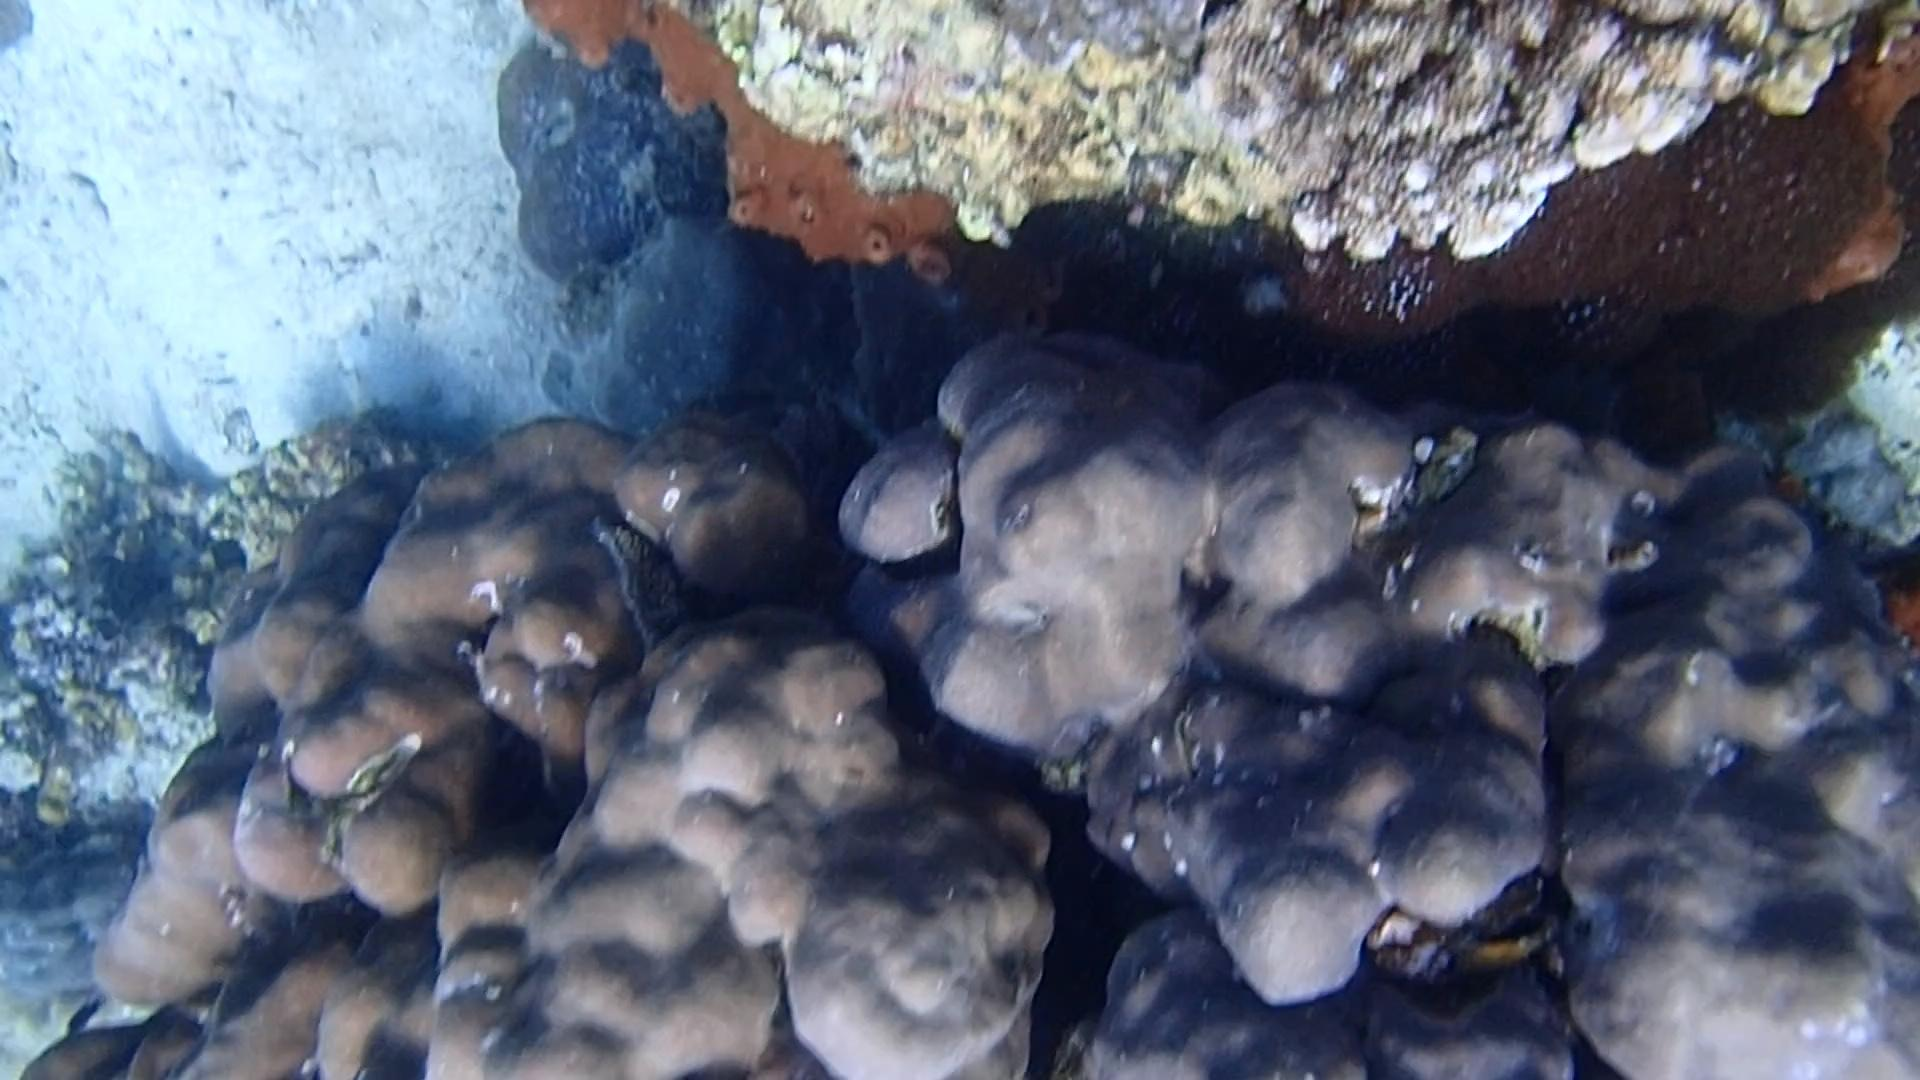Dark Fish: (57, 990, 107, 1036)
